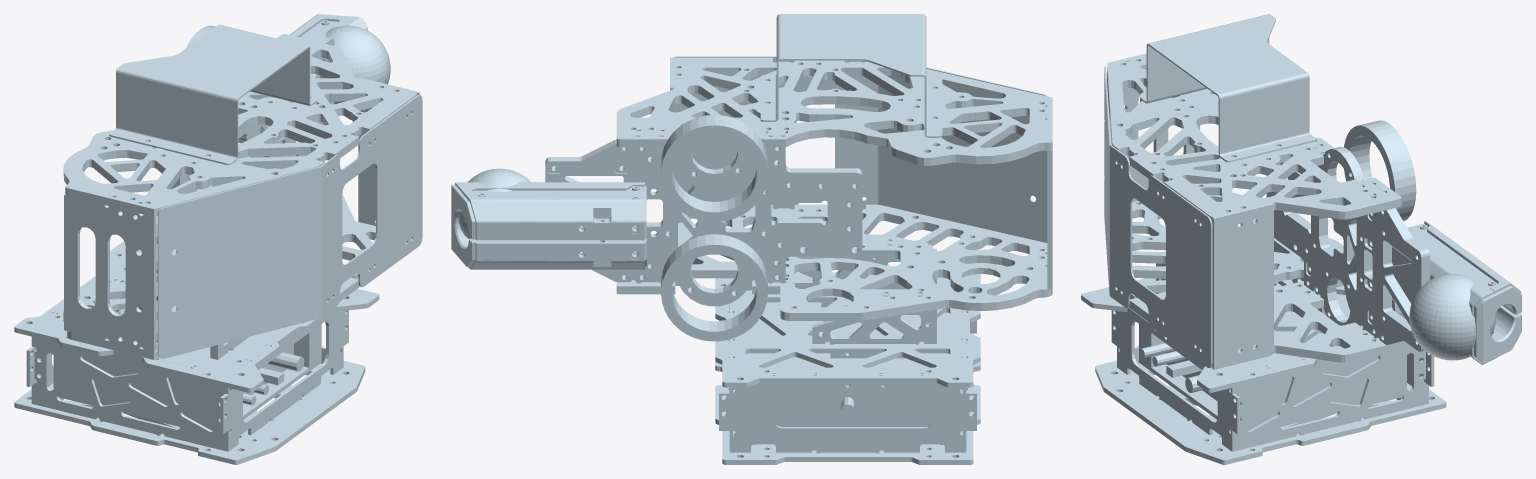
Rendered from wheelbipeV14_2_gimbal_pitch_link_visuals_gimbal_pitch_link_node_STL_BINARY__mesh.obj.
The picture shows the model from 3 angles, left to right: view 1: azimuth 30°, elevation 25°; view 2: azimuth 150°, elevation 25°; view 3: azimuth 270°, elevation 25°; orthographic projection. The views are drawn at different scales.
Size of the model in its own units: 0.2987 by 0.217 by 0.254.
